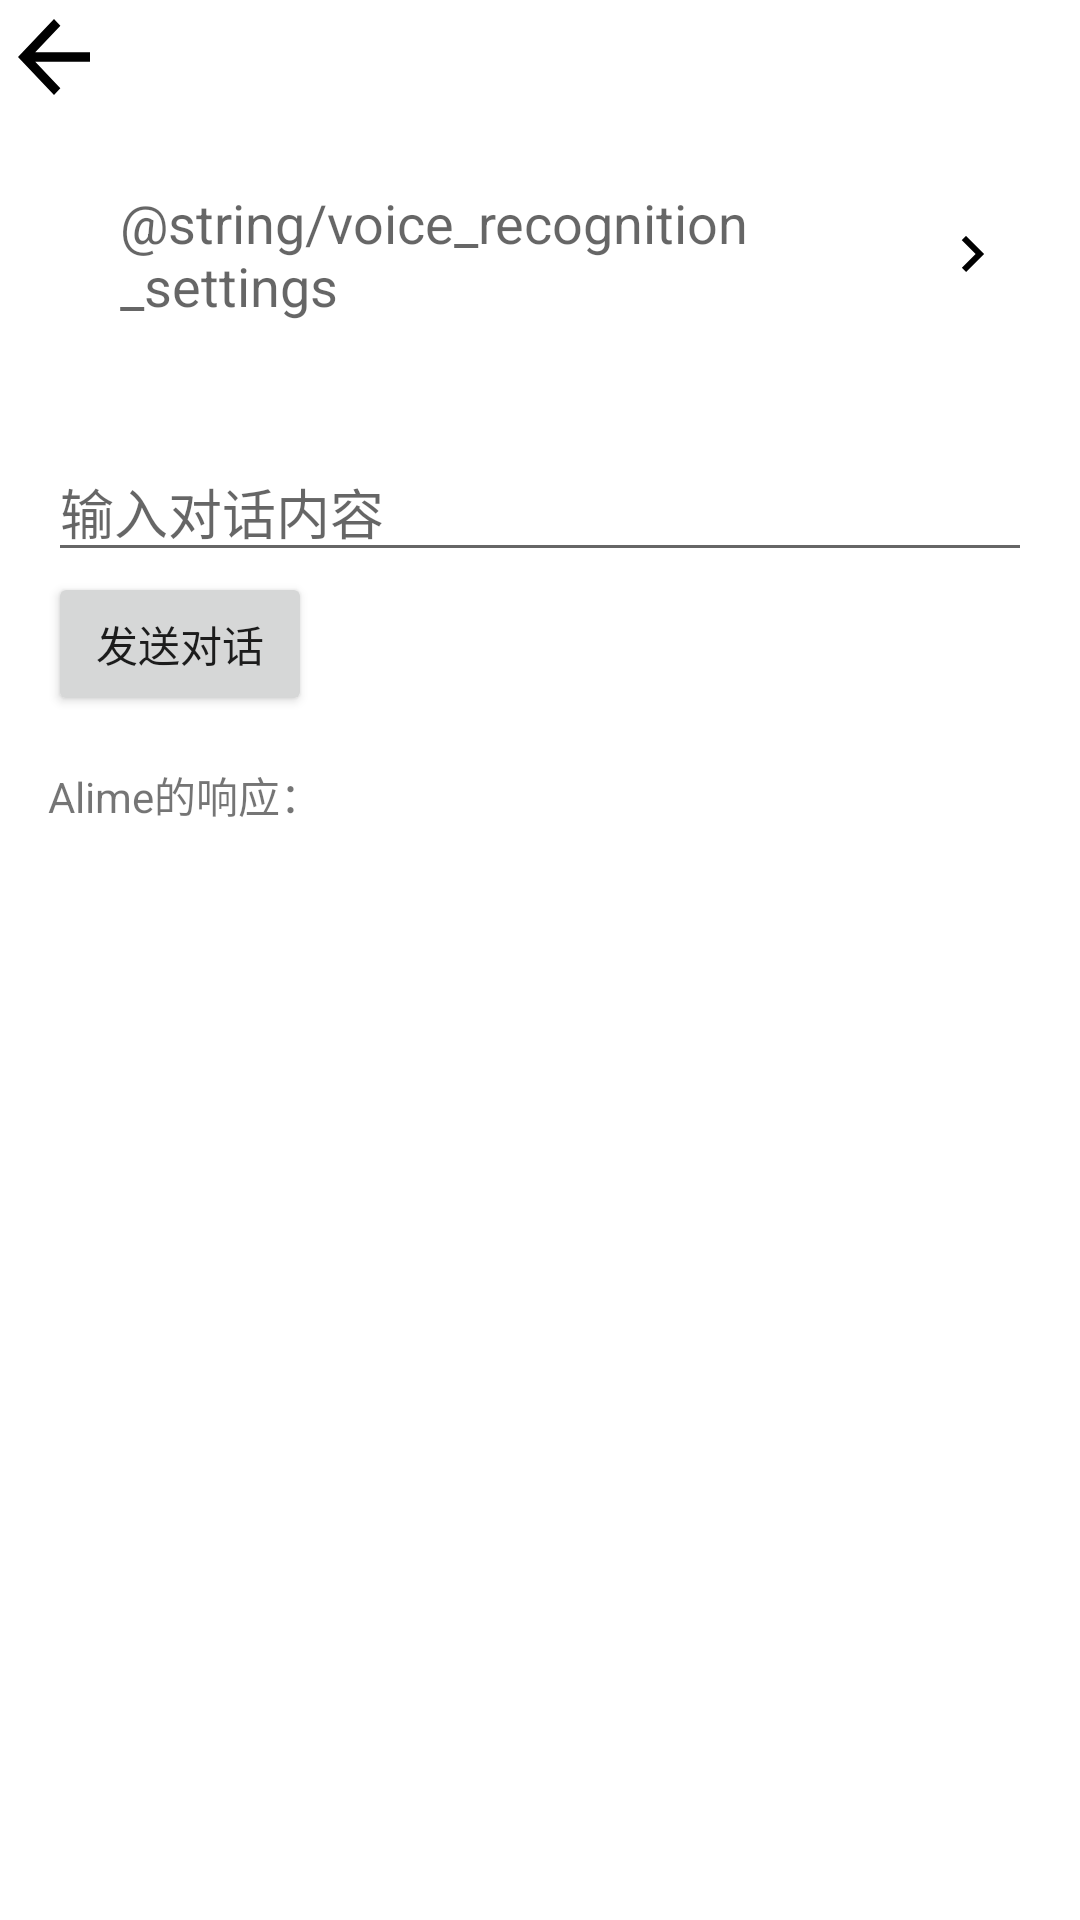

Locate icon controls on the screen. Image size 1080 x 1920, boxes as (x1, y1, x2, y2).
arrow right: (962, 236, 984, 272)
back arrow: (18, 19, 90, 95)
